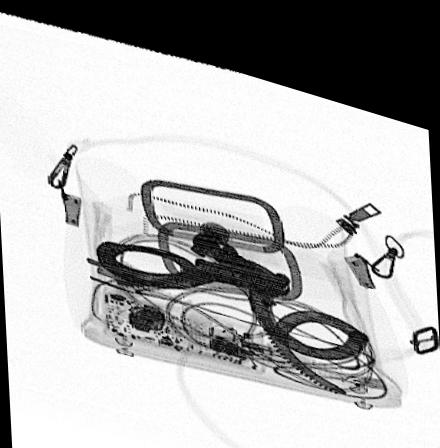HandCuffs: (95, 207, 371, 374)
